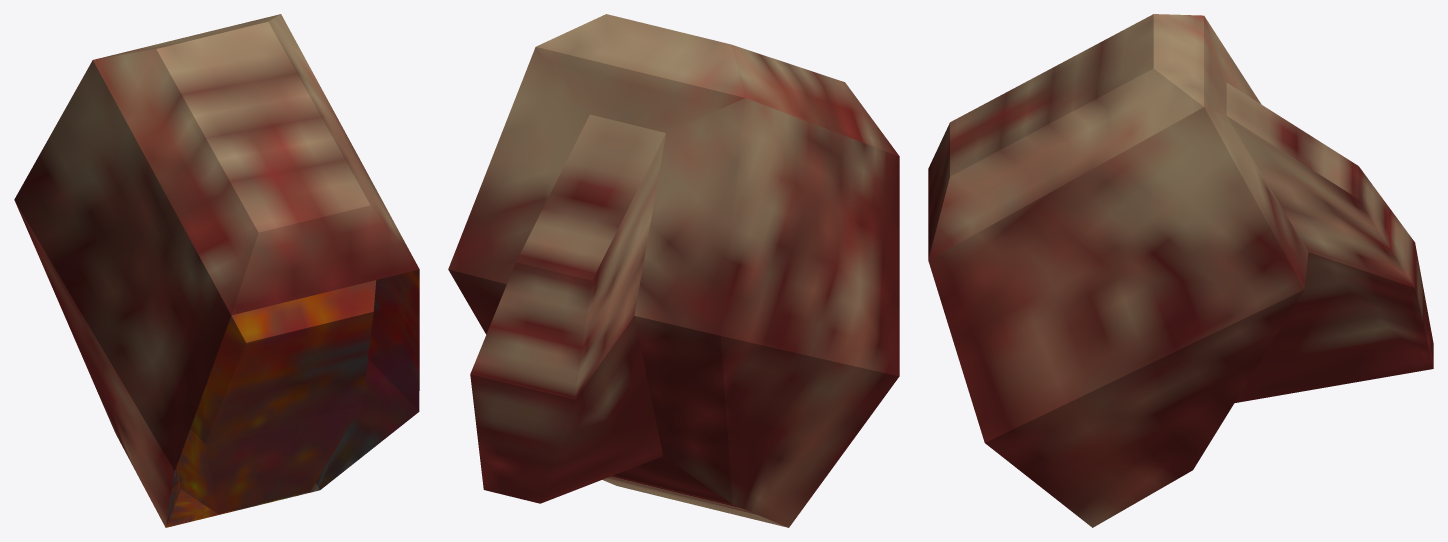
File: GoreHead.fbx
The picture shows the model from 3 angles, left to right: view 1: azimuth 30°, elevation 25°; view 2: azimuth 150°, elevation 25°; view 3: azimuth 270°, elevation 25°; orthographic projection. The views are drawn at different scales.
Visible parts, largest first — view 1: GoreHead; view 2: GoreHead; view 3: GoreHead.
Part boxes in pixels (x1,y1,x2,y2): GoreHead: (14, 14, 419, 527); GoreHead: (448, 14, 899, 527); GoreHead: (928, 14, 1433, 527).
Bounding box in the file's own units: 17.31 × 30.53 × 31.13.
